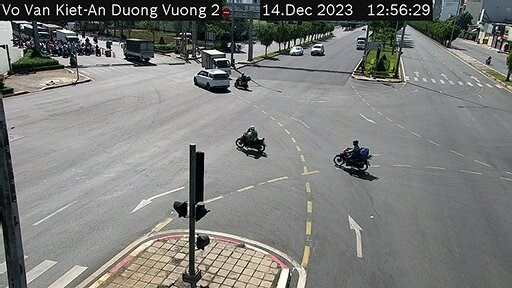car: (192, 66, 229, 90), (287, 45, 306, 61), (307, 40, 326, 56)
motorbike: (335, 136, 375, 173), (234, 119, 267, 160), (236, 68, 254, 88)
truck: (117, 37, 158, 64), (203, 49, 229, 73), (345, 34, 370, 48)
